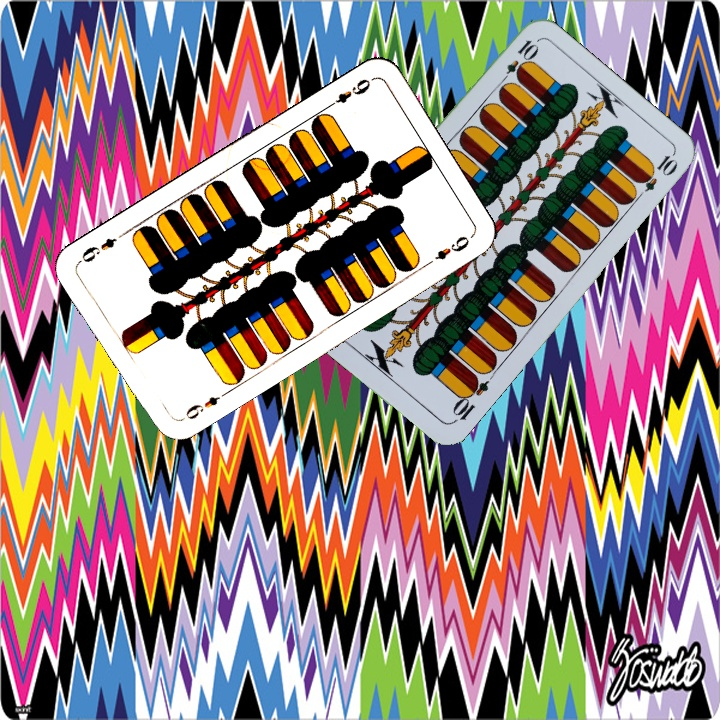E10: (447, 371, 491, 426), (495, 35, 540, 88)
E9: (322, 74, 375, 112), (175, 388, 229, 425)
